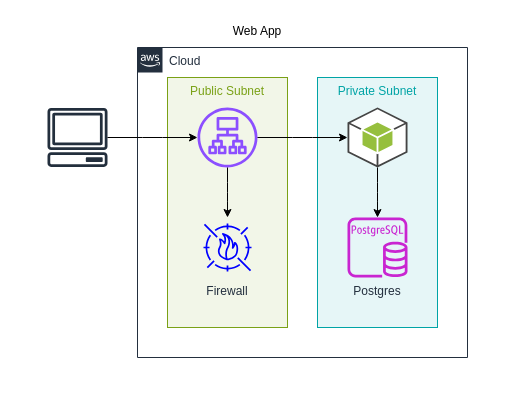
Image size: 514x404. Some labels were removed from this diagram. Each missing label, with the centre of its shape:
"Application" belongs at (x=377, y=137).
"Client" belongs at (x=77, y=137).
"Load Balancer" belongs at (x=227, y=137).
